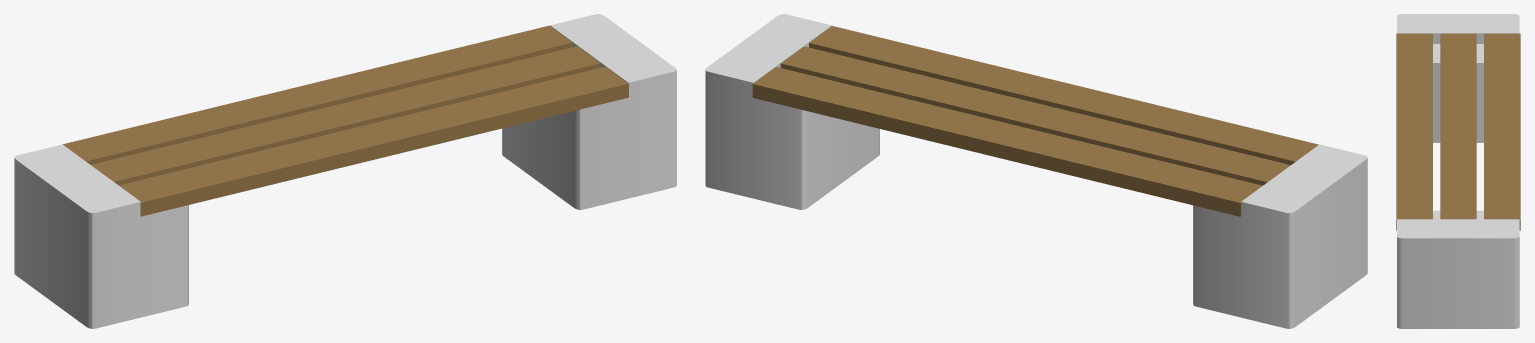
Rendered from Bench(2).fbx.
3 renders of one model, left to right at view 1: azimuth 30°, elevation 25°; view 2: azimuth 150°, elevation 25°; view 3: azimuth 270°, elevation 25°, orthographic. The views are drawn at different scales.
Parts seen in each view (by area): view 1: Bench2; view 2: Bench2; view 3: Bench2.
Part boxes in pixels (left/top/right/bottom): Bench2: left=14, top=14, right=676, bottom=328; Bench2: left=705, top=14, right=1367, bottom=328; Bench2: left=1396, top=14, right=1520, bottom=328.
Bounding box in the file's own units: 1.82 × 0.4255 × 0.3422.
